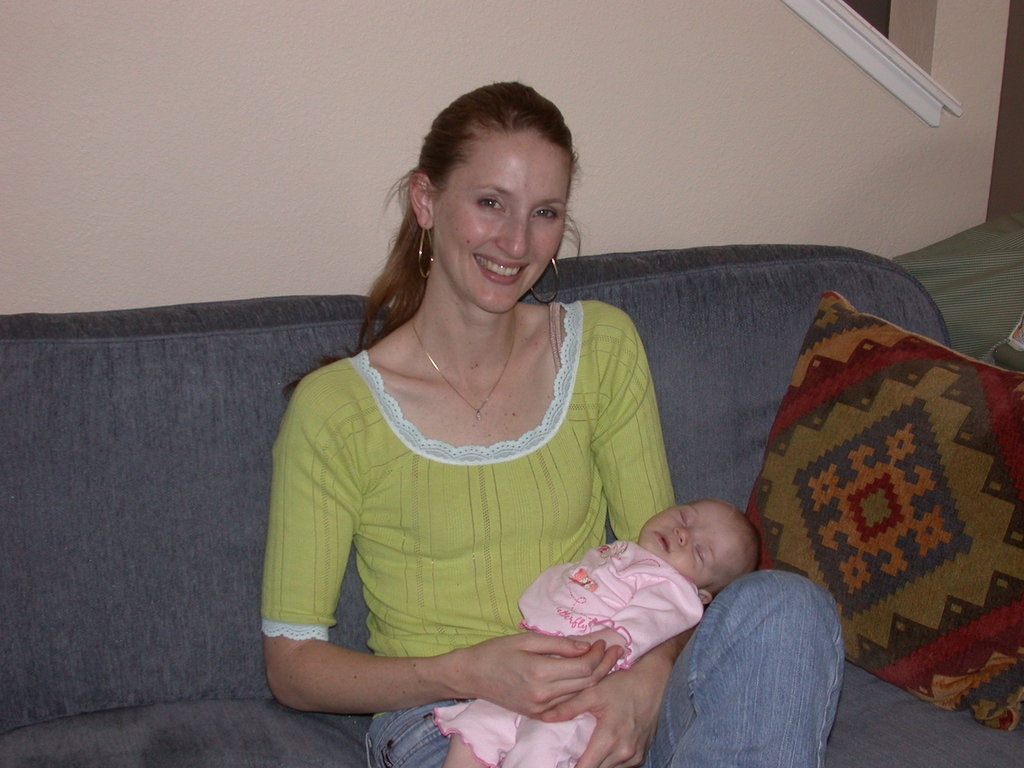Human_hand: (536, 655, 675, 767), (472, 634, 623, 717)
